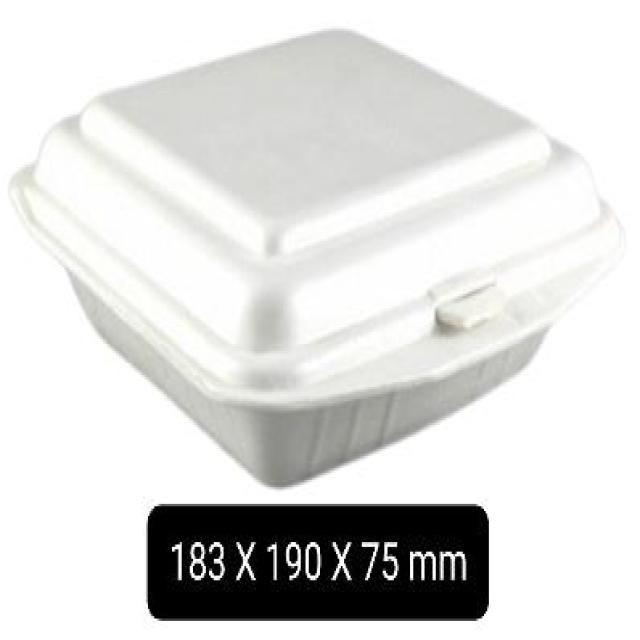styrofoam: (8, 22, 626, 487)
